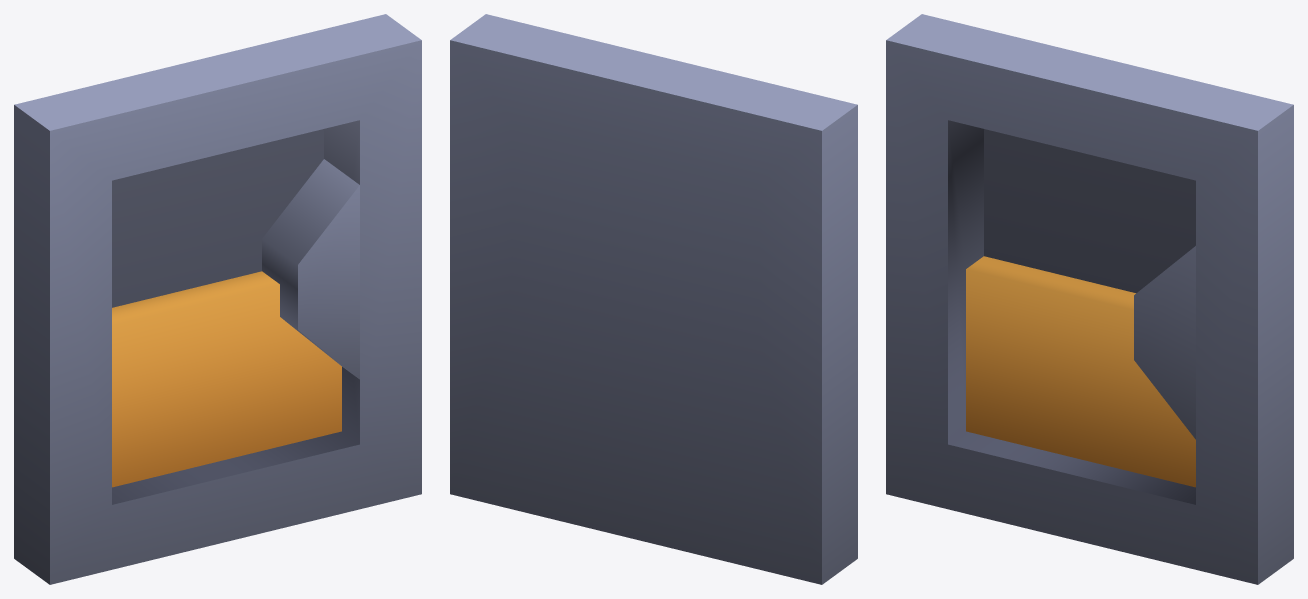
Rendered from door-double-closed.glb.
3 views of the same model, side by side, from view 1: azimuth 30°, elevation 25°; view 2: azimuth 150°, elevation 25°; view 3: azimuth 330°, elevation 25° (orthographic).
Parts seen in each view (by area): view 1: door-double-closed; view 2: door-double-closed; view 3: door-double-closed.
Part boxes in pixels (x1,y1,x2,y2): door-double-closed: (14,14,421,584); door-double-closed: (450,14,857,584); door-double-closed: (886,14,1293,584).
Bounding box in the file's own units: 0.6 × 0.7 × 0.1.
